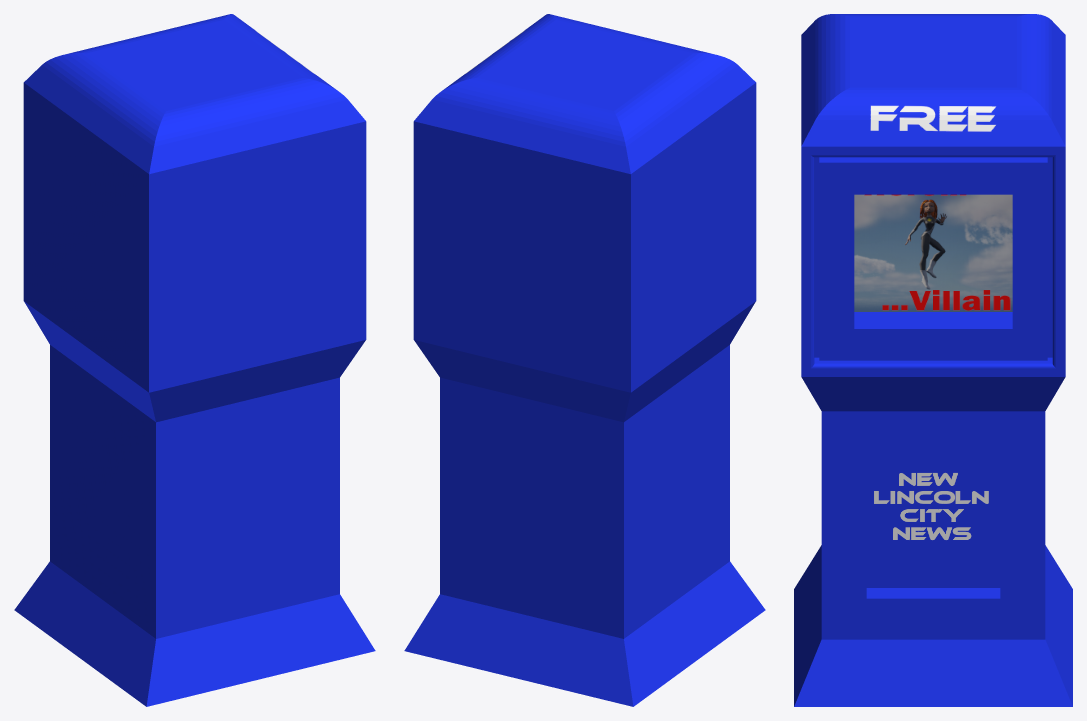
File: Newsstand.fbx
3 views of the same model, side by side, from view 1: azimuth 30°, elevation 25°; view 2: azimuth 150°, elevation 25°; view 3: azimuth 270°, elevation 25° (orthographic). The views are drawn at different scales.
Visible parts, largest first — view 1: Plane; view 2: Plane; view 3: Plane.
Part boxes in pixels (box(x1,y1,x2,y2)): Plane: box(14, 14, 375, 706); Plane: box(404, 14, 765, 706); Plane: box(794, 14, 1072, 706).
Size of the model in its own units: 2 by 4.71 by 2.
1 material, 1 textured.
